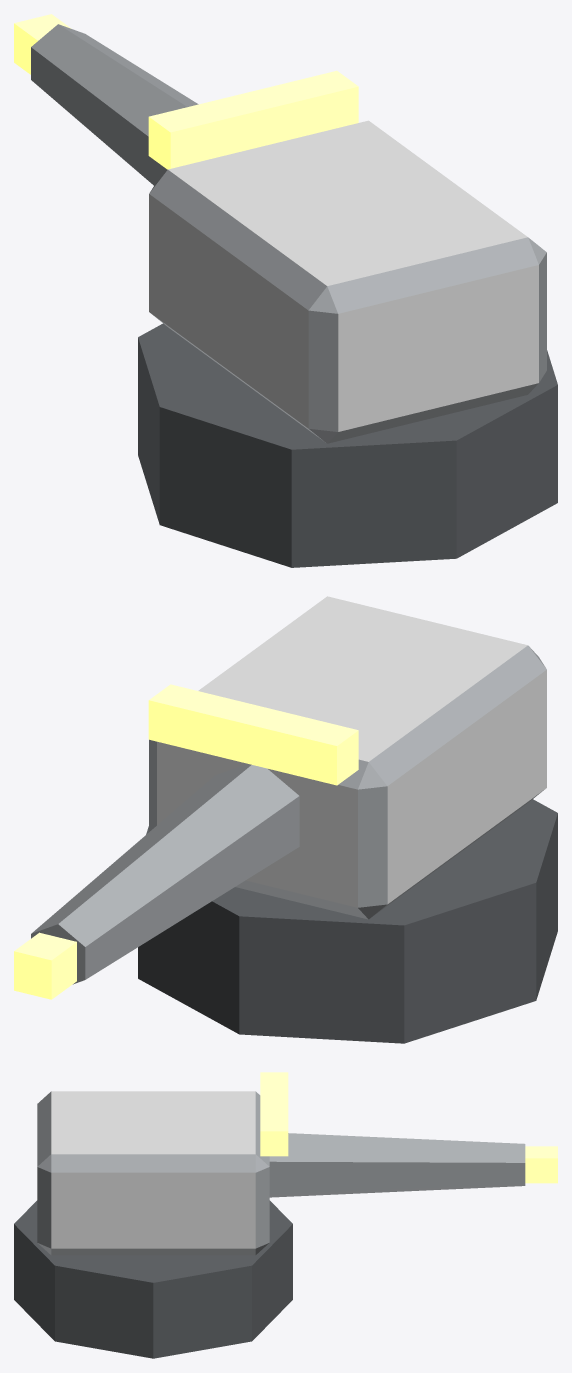
Rendered from pulse_laser_s.glb.
The picture shows the model from 3 angles, top to bottom: view 1: azimuth 30°, elevation 25°; view 2: azimuth 150°, elevation 25°; view 3: azimuth 270°, elevation 25°; orthographic projection. The views are drawn at different scales.
Visible parts, largest first — view 1: pulse_laser_s_LOD0; view 2: pulse_laser_s_LOD0; view 3: pulse_laser_s_LOD0.
Part boxes in pixels (bbox=[...]): pulse_laser_s_LOD0: bbox=[14, 14, 557, 567]; pulse_laser_s_LOD0: bbox=[14, 596, 557, 1043]; pulse_laser_s_LOD0: bbox=[14, 1072, 557, 1358].
Size of what is drawn, in the model's own units: 0.6 by 0.47 by 1.17.
